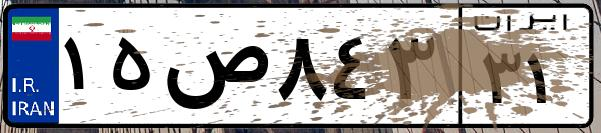1: (57, 26, 110, 100), (525, 38, 570, 115)
3: (385, 28, 445, 110), (475, 38, 525, 113)
4: (330, 28, 385, 110)
5: (110, 28, 158, 98)
8: (270, 28, 330, 110)
ص: (158, 20, 270, 120)
